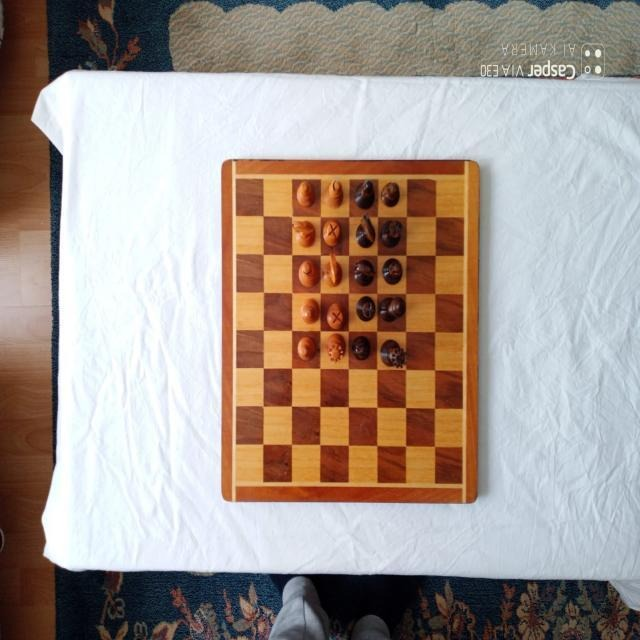black-bishop: (354, 179, 375, 209), (381, 258, 403, 286)
black-king: (380, 294, 406, 322)
black-knight: (356, 211, 376, 249), (352, 259, 375, 287)
black-pawn: (380, 181, 400, 207), (353, 336, 371, 360)
black-queen: (380, 338, 408, 370)
black-rook: (381, 219, 403, 248), (356, 295, 376, 322)
white-bishop: (324, 178, 344, 209), (298, 260, 320, 288)
white-king: (300, 298, 320, 325)
white-knight: (321, 253, 343, 287), (291, 219, 316, 248)
white-pawn: (296, 181, 316, 207), (296, 335, 316, 361)
white-queen: (325, 333, 346, 363)
white-rook: (326, 302, 346, 330), (323, 218, 341, 245)
